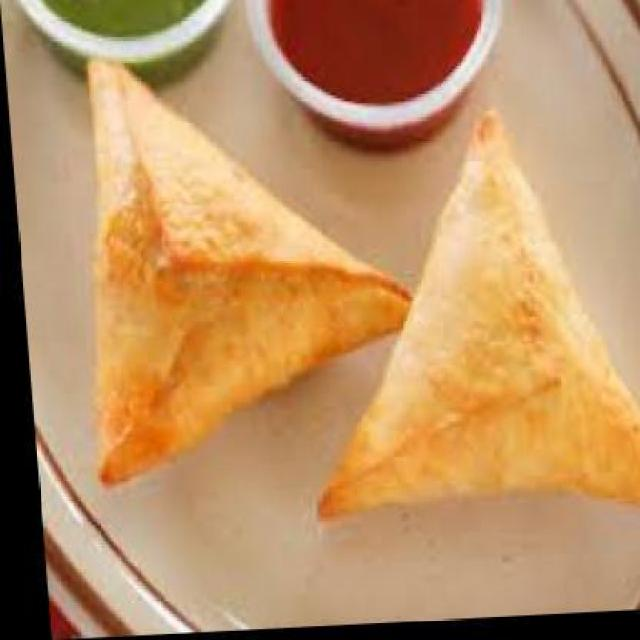samosa: (64, 49, 416, 486), (283, 109, 640, 526)
